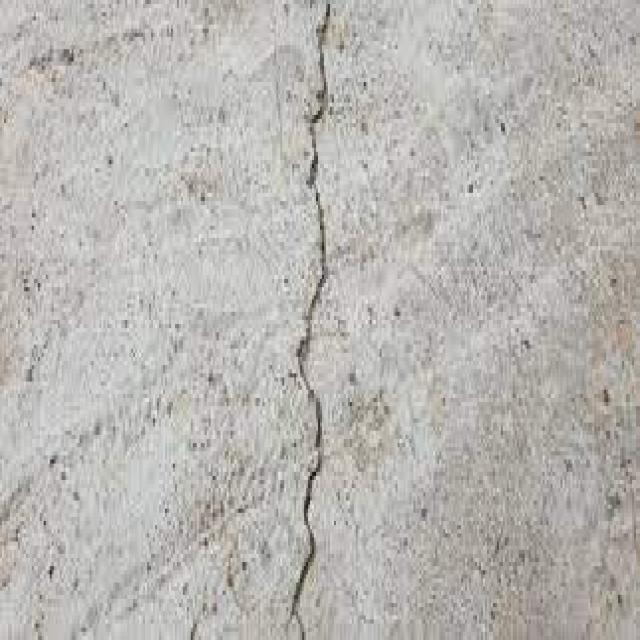Crack: (280, 0, 328, 632)
